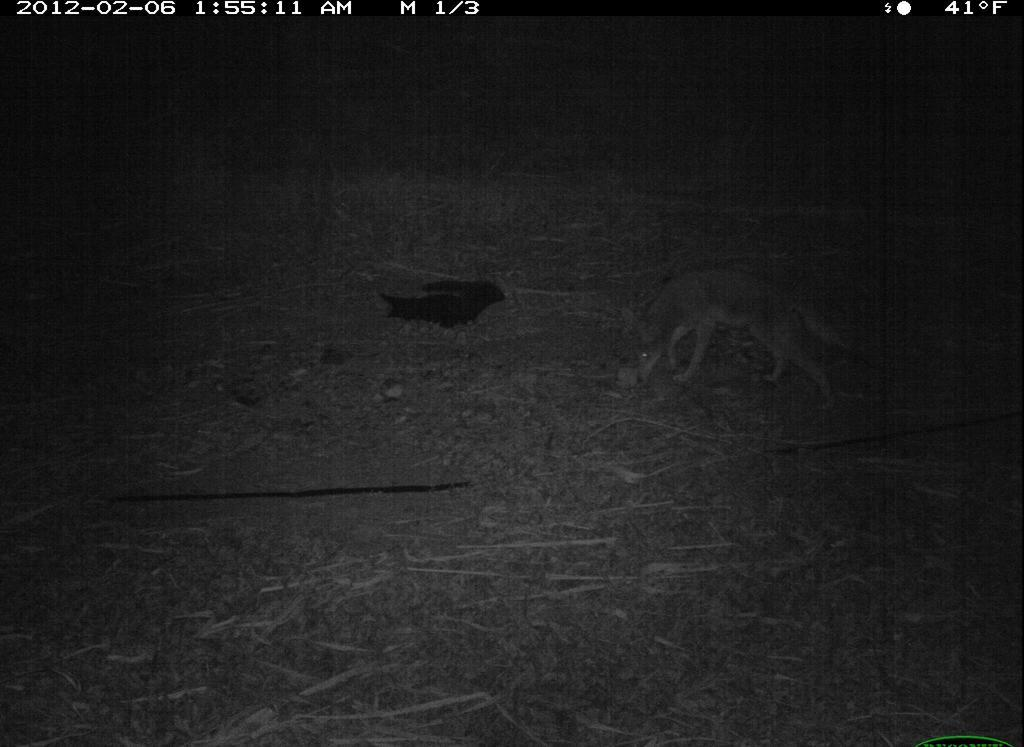coyote: (612, 254, 862, 414)
